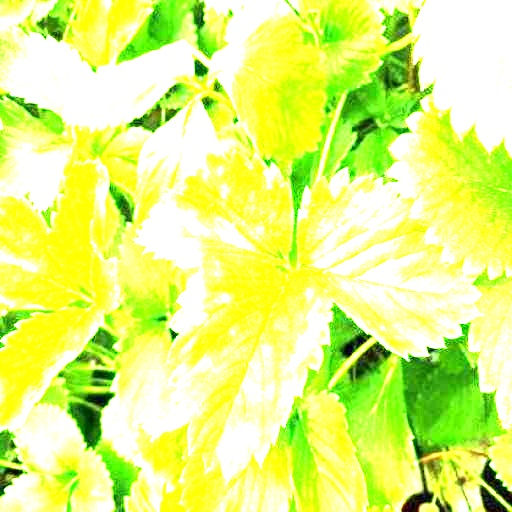Powdery Mildew Leaf: (163, 260, 335, 485), (296, 164, 484, 360), (131, 147, 295, 269)
